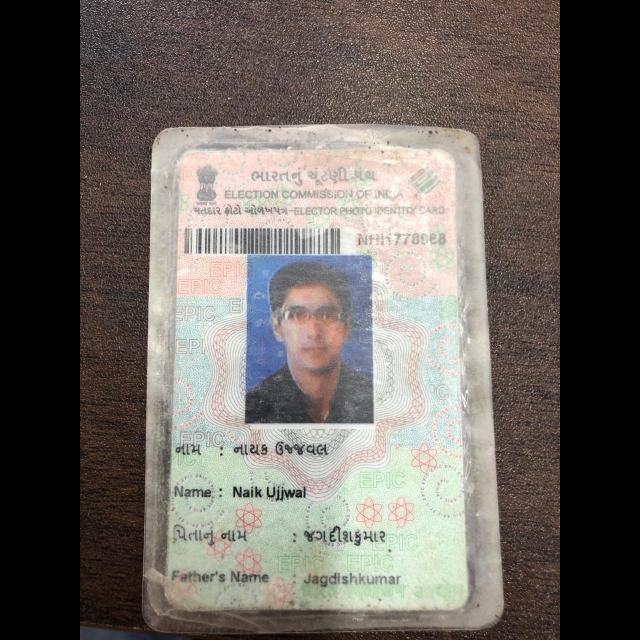voter_id: (157, 137, 476, 618)
